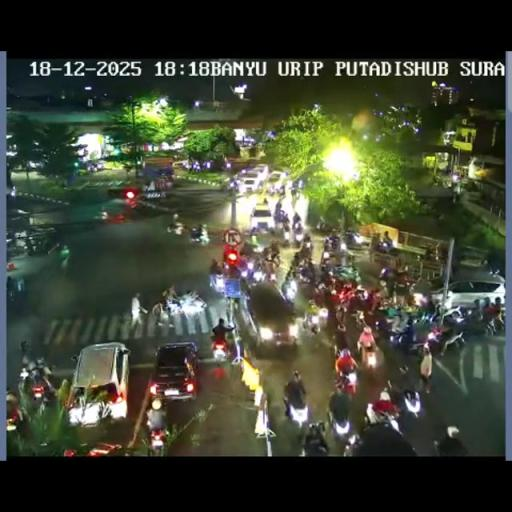Car: (68, 342, 130, 426), (244, 282, 298, 355), (148, 342, 199, 403), (428, 276, 505, 314), (248, 204, 274, 233), (458, 244, 488, 267), (107, 182, 142, 200), (262, 170, 288, 192), (234, 173, 262, 193), (342, 230, 366, 250), (173, 159, 190, 169)
Motorcycle: (278, 327, 446, 451), (208, 199, 314, 291), (400, 318, 450, 356), (364, 395, 402, 428), (327, 395, 354, 440), (6, 398, 26, 452), (436, 426, 467, 455), (174, 289, 208, 315), (302, 422, 328, 455), (36, 372, 58, 408), (328, 261, 362, 284), (328, 280, 357, 306), (286, 394, 308, 428), (302, 304, 326, 335), (18, 365, 37, 401), (400, 386, 421, 417), (210, 331, 230, 363), (147, 422, 167, 454), (484, 307, 506, 336), (360, 336, 379, 369), (154, 295, 181, 318), (334, 369, 356, 396), (296, 261, 318, 287), (342, 431, 364, 457), (378, 300, 404, 322), (379, 266, 397, 296), (280, 273, 298, 302), (442, 306, 468, 326), (372, 236, 398, 255), (312, 283, 330, 310), (208, 262, 224, 292), (260, 257, 278, 283), (221, 257, 242, 279), (394, 267, 414, 289), (188, 226, 209, 246), (334, 302, 348, 332), (367, 288, 383, 314), (352, 286, 370, 309), (323, 234, 341, 254), (274, 215, 290, 237), (19, 340, 32, 366), (314, 218, 336, 232), (239, 240, 256, 258), (166, 220, 186, 235), (353, 309, 368, 329), (473, 297, 488, 317), (292, 223, 304, 245), (242, 256, 256, 274), (24, 236, 38, 254), (422, 244, 436, 262), (301, 242, 313, 262), (46, 241, 61, 255), (452, 180, 462, 201), (226, 183, 237, 200), (60, 253, 70, 270), (290, 186, 300, 202), (249, 232, 260, 246), (274, 198, 282, 216), (172, 212, 179, 224), (10, 186, 15, 197)
